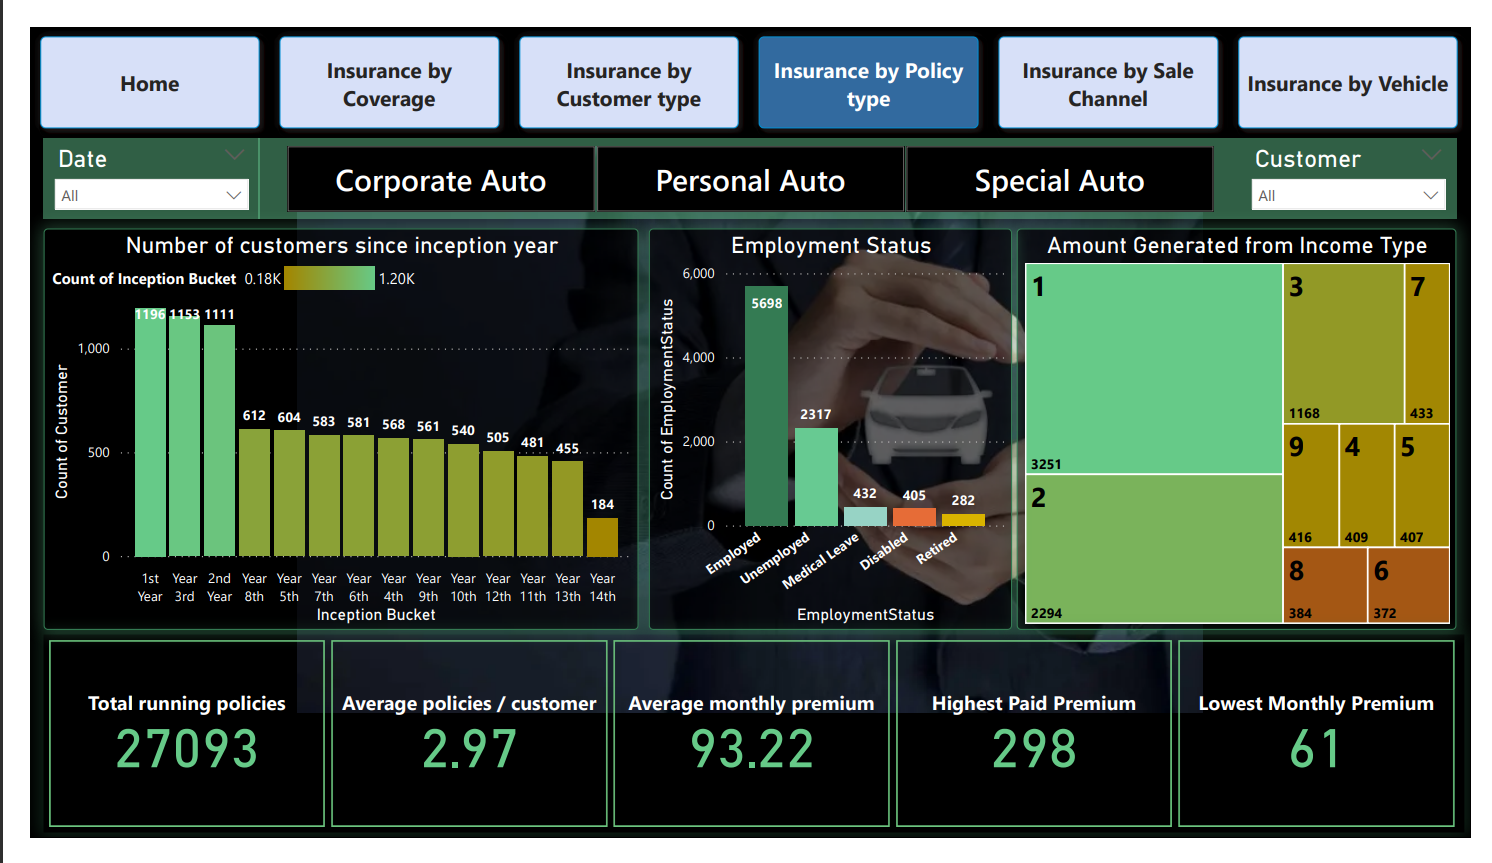

What the dashboard file says about the page in this screenshot:
{"tool":"powerbi","page":{"name":"Insurance by Policy type","canvas":[1280,720],"ordinal":3},"visuals":[{"type":"pageNavigator","box":[0,0,1280.6,98.7],"z":0},{"type":"slicer","fields":{"Values":["AutoInsurance.Policy Type"]},"box":[203.3,98.8,872.6,72],"z":1000},{"type":"slicer","fields":{"Values":["date.Effective To Date"]},"box":[12.1,98.8,191.7,72],"z":2000},{"type":"slicer","fields":{"Values":["AutoInsurance 2.Customer"]},"box":[1076,98.8,191.7,72],"z":3000},{"type":"columnChart","title":"Number of customers since inception year","fields":{"Category":["AutoInsurance 3.Inception Bucket"],"Y":["CountNonNull(AutoInsurance 3.Customer)"]},"box":[11.6,178.9,529.9,356.7],"z":4000},{"type":"treemap","title":"Amount Generated from Income Type","fields":{"Values":["CountNonNull(AutoInsurance 3.Number of Policies)"],"Group":["AutoInsurance 3.Number of Policies"]},"box":[877.3,178.9,390.4,356.7],"z":5000},{"type":"columnChart","title":"Employment Status","fields":{"Category":["AutoInsurance.EmploymentStatus"],"Y":["CountNonNull(AutoInsurance.EmploymentStatus)"]},"box":[549.6,178.9,323,356.7],"z":6000},{"type":"cardVisual","fields":{"Data":["Sum(AutoInsurance 3.Number of Policies)","Avg(AutoInsurance 3.Number of Policies)","Avg(AutoInsurance 3.Monthly Premium Auto)","Max(AutoInsurance 3.Monthly Premium Auto)1","Min(AutoInsurance 3.Monthly Premium Auto)2"]},"box":[11.6,540.3,1263,175.5],"z":7000}]}

Visuals, with their boxes in screenshot pixels (x1, y1, x2, y2), scaled from the page's 1280x720 canvas onto the 1492x863 screenshot:
pageNavigator: bbox=(0, 0, 1491, 118)
slicer - AutoInsurance.Policy Type: bbox=(237, 118, 1254, 205)
slicer - date.Effective To Date: bbox=(14, 118, 238, 205)
slicer - AutoInsurance 2.Customer: bbox=(1254, 118, 1478, 205)
"Number of customers since inception year" columnChart: bbox=(14, 214, 631, 642)
"Amount Generated from Income Type" treemap: bbox=(1023, 214, 1478, 642)
"Employment Status" columnChart: bbox=(641, 214, 1017, 642)
cardVisual - Sum(AutoInsurance 3.Number of Policies) x Avg(AutoInsurance 3.Number of Policies): bbox=(14, 648, 1486, 858)
